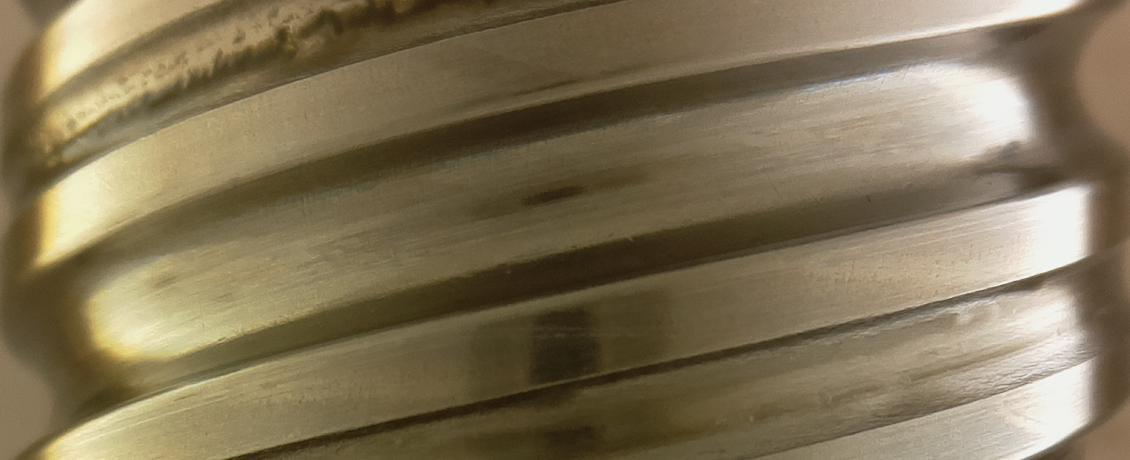pitting: (864, 194, 872, 203)
